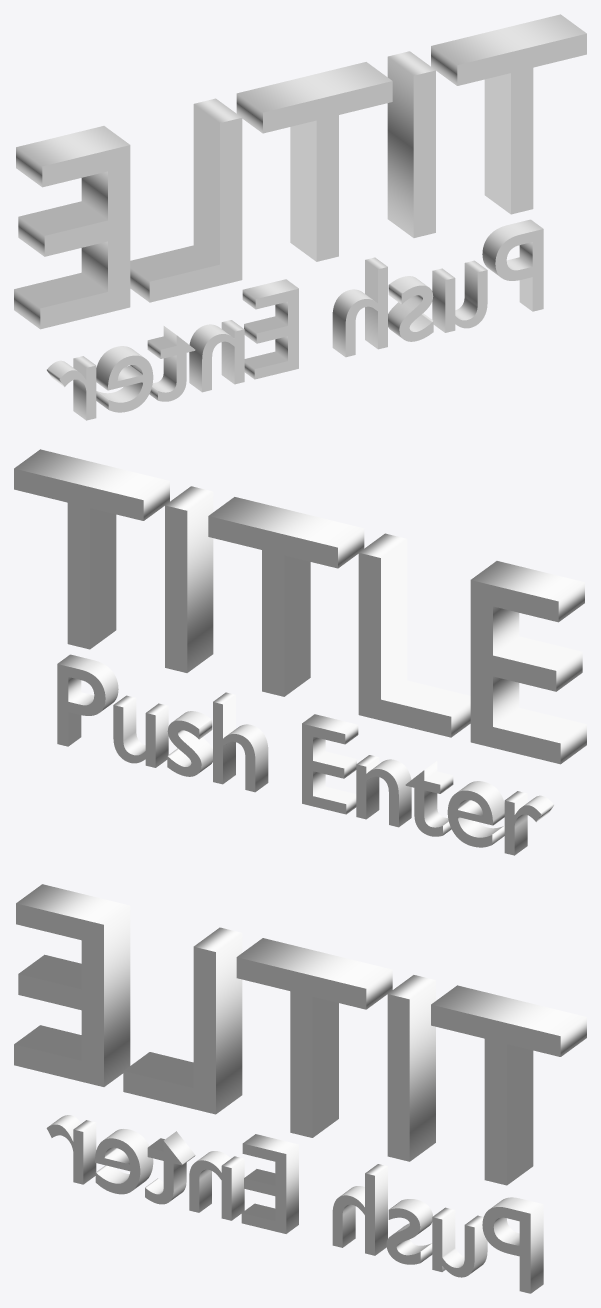
File: title.obj
3 renders of one model, top to bottom at view 1: azimuth 30°, elevation 25°; view 2: azimuth 150°, elevation 25°; view 3: azimuth 330°, elevation 25°, orthographic.
Visible parts, largest first — view 1: テキスト.001; view 2: テキスト.001; view 3: テキスト.001.
Part boxes in pixels (<box>): テキスト.001: <box>14,14,586,420</box>; テキスト.001: <box>14,449,586,855</box>; テキスト.001: <box>14,884,586,1293</box>.
Bounding box in the file's own units: 24.02 × 11.44 × 2.
Materials: 1 (1 with a texture image).
